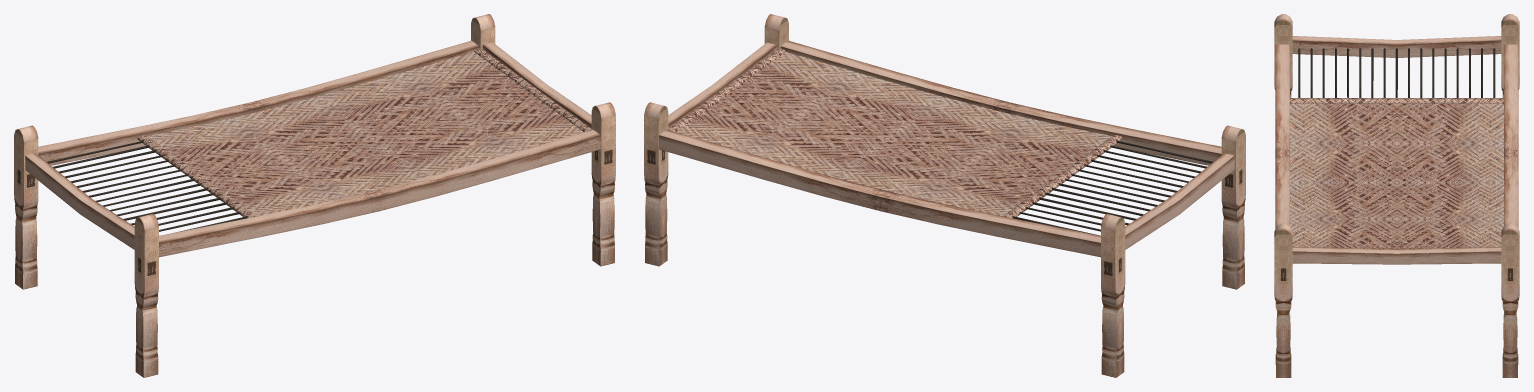
Rendered from charpai_b.glb.
The picture shows the model from 3 angles, left to right: view 1: azimuth 30°, elevation 25°; view 2: azimuth 150°, elevation 25°; view 3: azimuth 270°, elevation 25°; orthographic projection. The views are drawn at different scales.
Visible parts, largest first — view 1: Charpai; view 2: Charpai; view 3: Charpai.
Boxes of the visible parts, bbox=[...] form: Charpai: bbox=[14, 14, 615, 377]; Charpai: bbox=[644, 14, 1245, 377]; Charpai: bbox=[1274, 14, 1519, 377].
Bounding box in the file's own units: 2.57 × 0.8172 × 1.23.
1 material, 1 textured.
